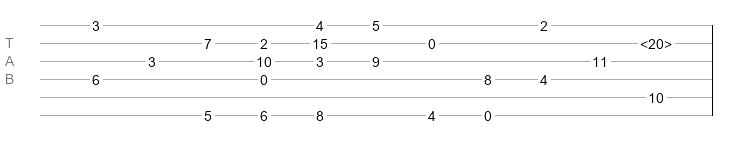0: (260, 72, 268, 82), (428, 36, 436, 46), (484, 108, 492, 118)
10: (256, 54, 272, 64), (648, 90, 664, 100)
11: (592, 54, 608, 64)
15: (312, 36, 328, 46)
2: (260, 36, 268, 46), (540, 18, 548, 28)
3: (92, 18, 100, 28), (148, 54, 156, 64), (316, 54, 324, 64)
4: (316, 18, 324, 28), (428, 108, 436, 118), (540, 72, 548, 82)
5: (204, 108, 212, 118), (372, 18, 380, 28)
6: (92, 72, 100, 82), (260, 108, 268, 118)
7: (204, 36, 212, 46)
8: (316, 108, 324, 118), (484, 72, 492, 82)
9: (372, 54, 380, 64)
harmonic: (640, 36, 672, 46)
